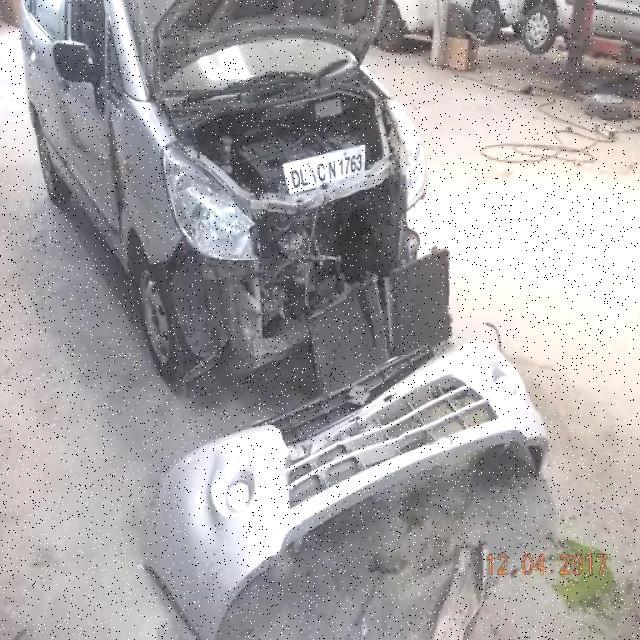car damage: (154, 119, 425, 374), (107, 103, 130, 256)
